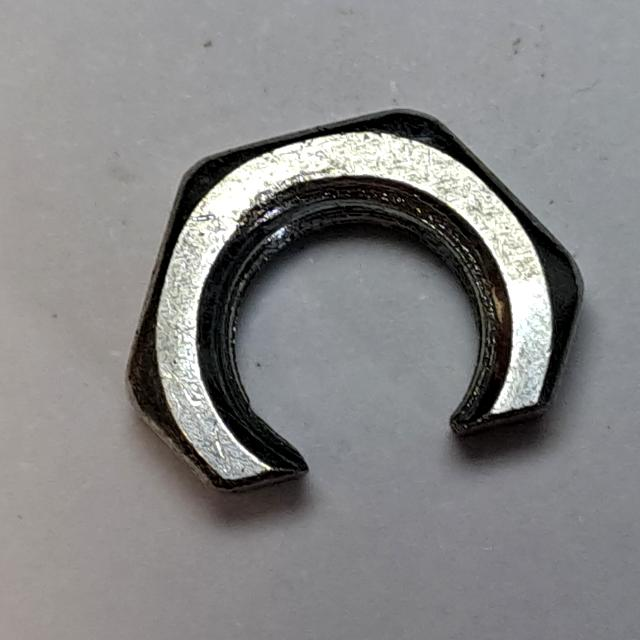Fracture: (107, 96, 596, 512)
